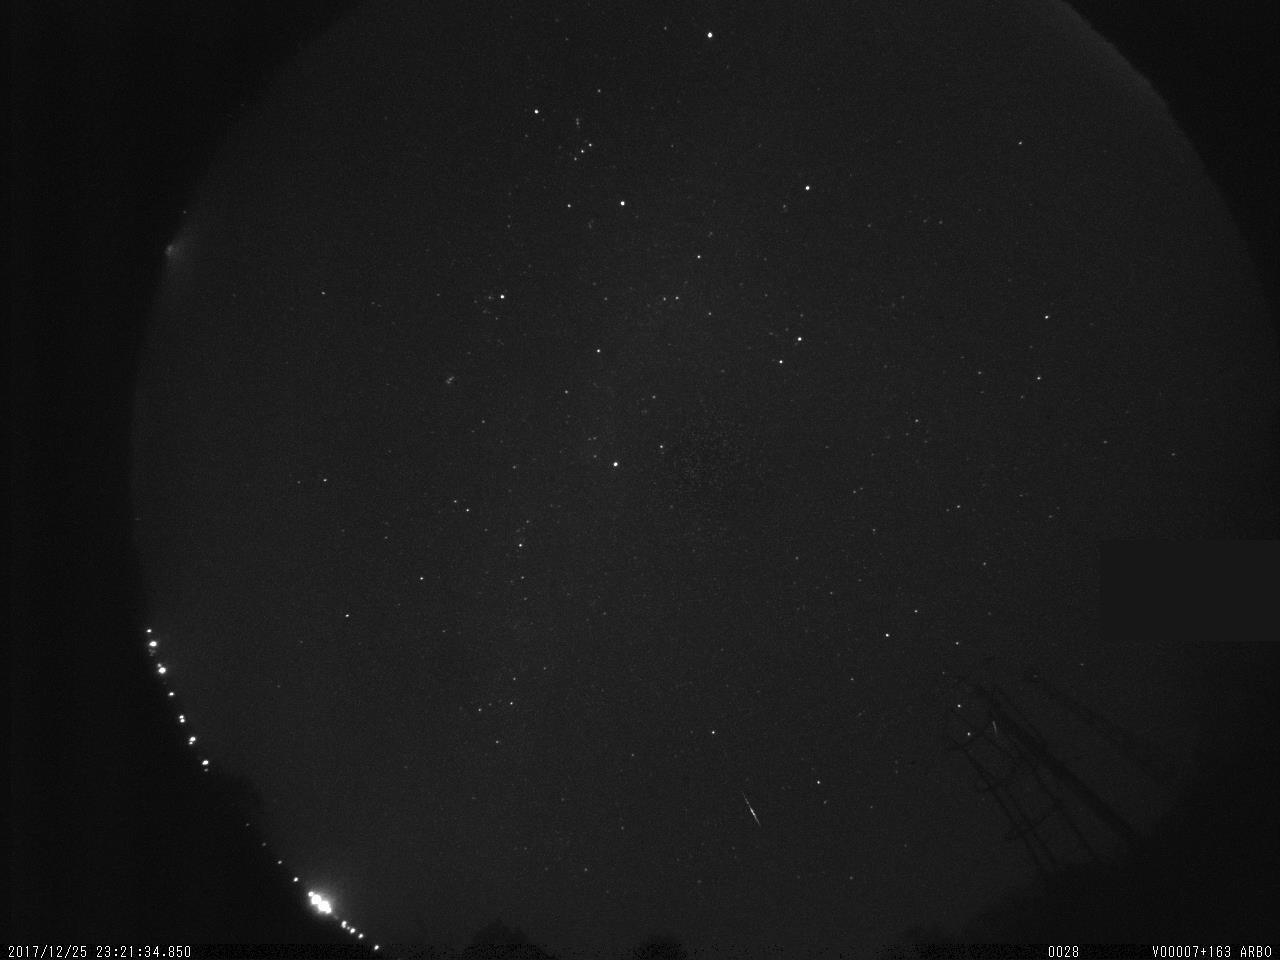meteor: (736, 792, 768, 831)
